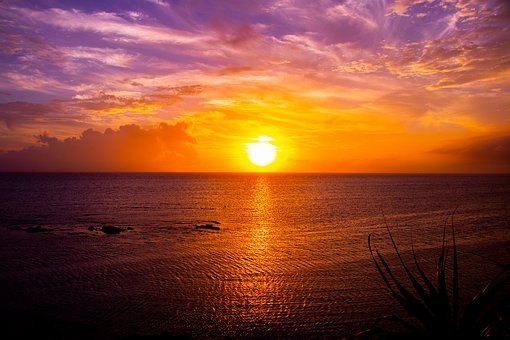sea: (10, 173, 510, 339)
sky: (3, 2, 508, 172)
